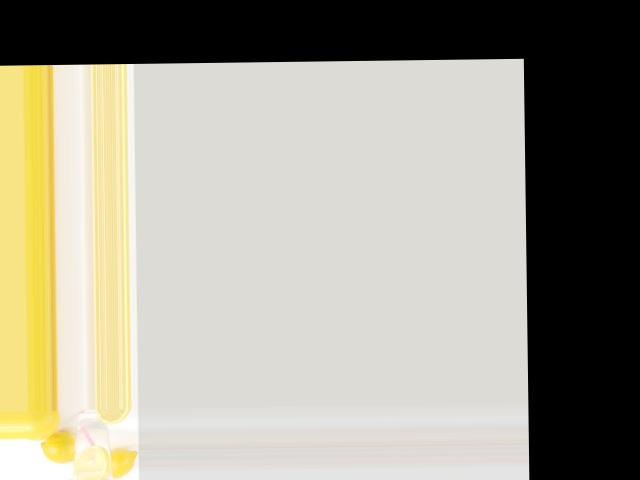lemon: (102, 444, 136, 479)
